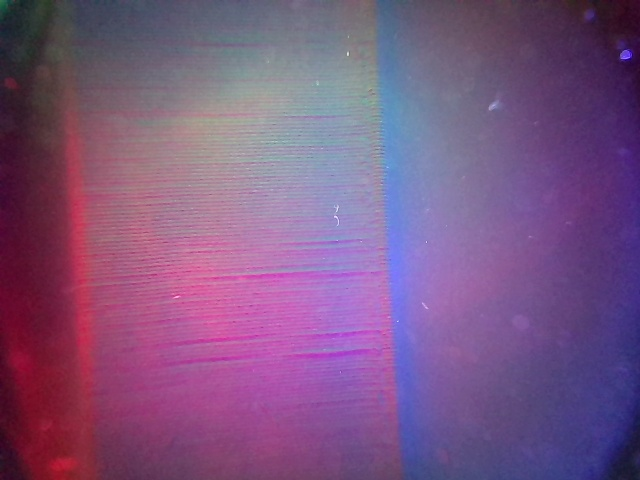contact: (81, 0, 397, 476)
